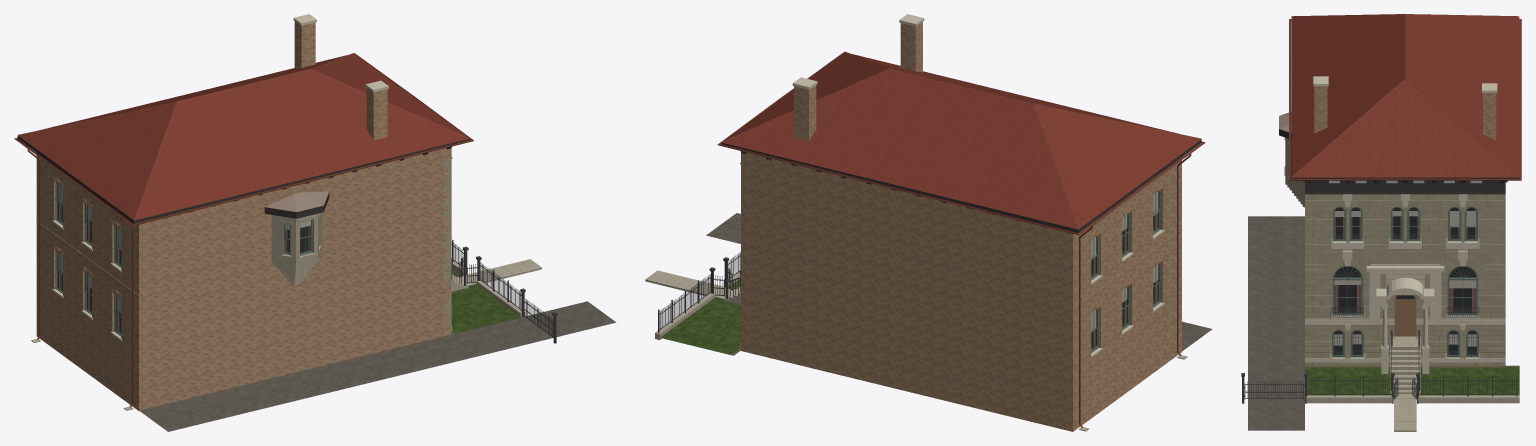
Rendered from goodman_house_1612_prairie__as_built_1869.glb.
The picture shows the model from 3 angles, left to right: view 1: azimuth 30°, elevation 25°; view 2: azimuth 150°, elevation 25°; view 3: azimuth 270°, elevation 25°; orthographic projection. The views are drawn at different scales.
Visible parts, largest first — view 1: goodman_house_1612_prairie__as_built_1869; view 2: goodman_house_1612_prairie__as_built_1869; view 3: goodman_house_1612_prairie__as_built_1869.
Part boxes in pixels (x1,y1,x2,y2): goodman_house_1612_prairie__as_built_1869: [14, 14, 616, 431]; goodman_house_1612_prairie__as_built_1869: [645, 14, 1212, 431]; goodman_house_1612_prairie__as_built_1869: [1241, 14, 1521, 431].
Bounding box in the file's own units: 29.29 × 15.87 × 15.71.
Materials: 27 (15 with a texture image).
